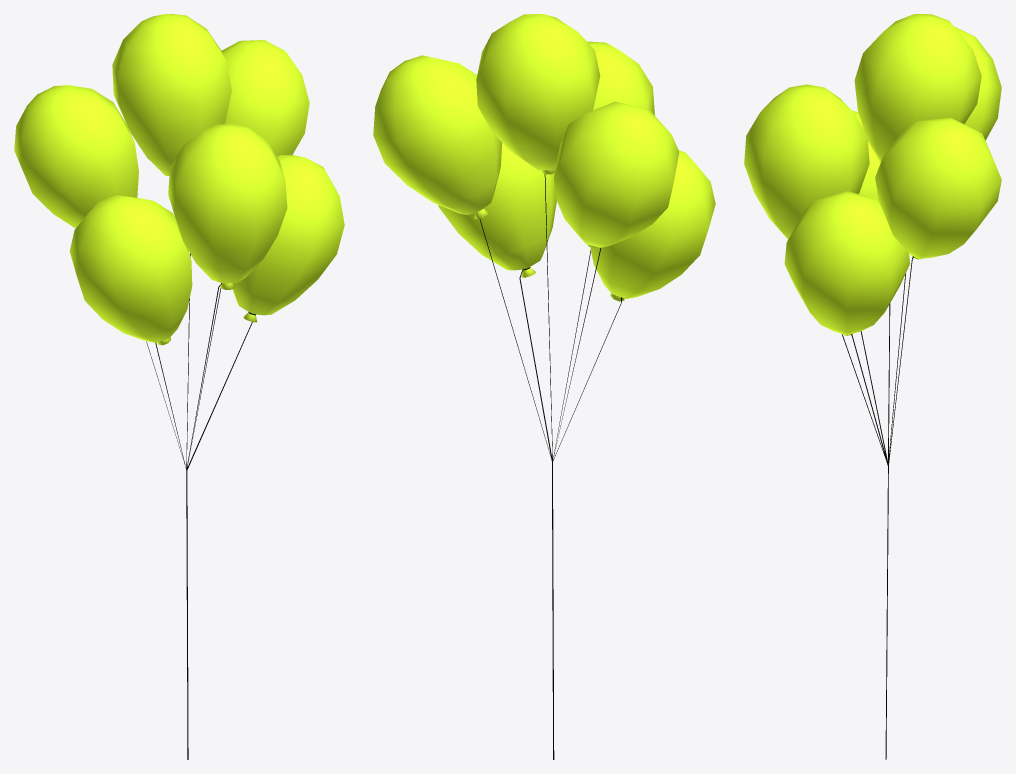
The model's file is BalloonBunchNeonGreen.glb.
The picture shows the model from 3 angles, left to right: view 1: azimuth 30°, elevation 25°; view 2: azimuth 150°, elevation 25°; view 3: azimuth 270°, elevation 25°; orthographic projection. The views are drawn at different scales.
Parts seen in each view (by area): view 1: BalloonBunchNeonGreen; view 2: BalloonBunchNeonGreen; view 3: BalloonBunchNeonGreen.
Boxes of the visible parts, box(x1,y1,x2,y2) form: BalloonBunchNeonGreen: box(14, 14, 344, 759); BalloonBunchNeonGreen: box(373, 14, 715, 759); BalloonBunchNeonGreen: box(744, 14, 1001, 759).
Size of the model in its own units: 1.32 by 3.26 by 1.03.
1 material, 1 textured.
